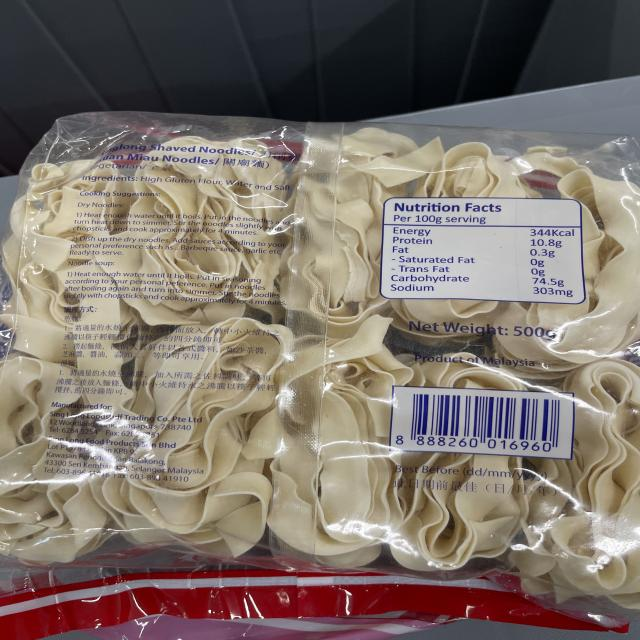object_name: (36, 130, 637, 597)
